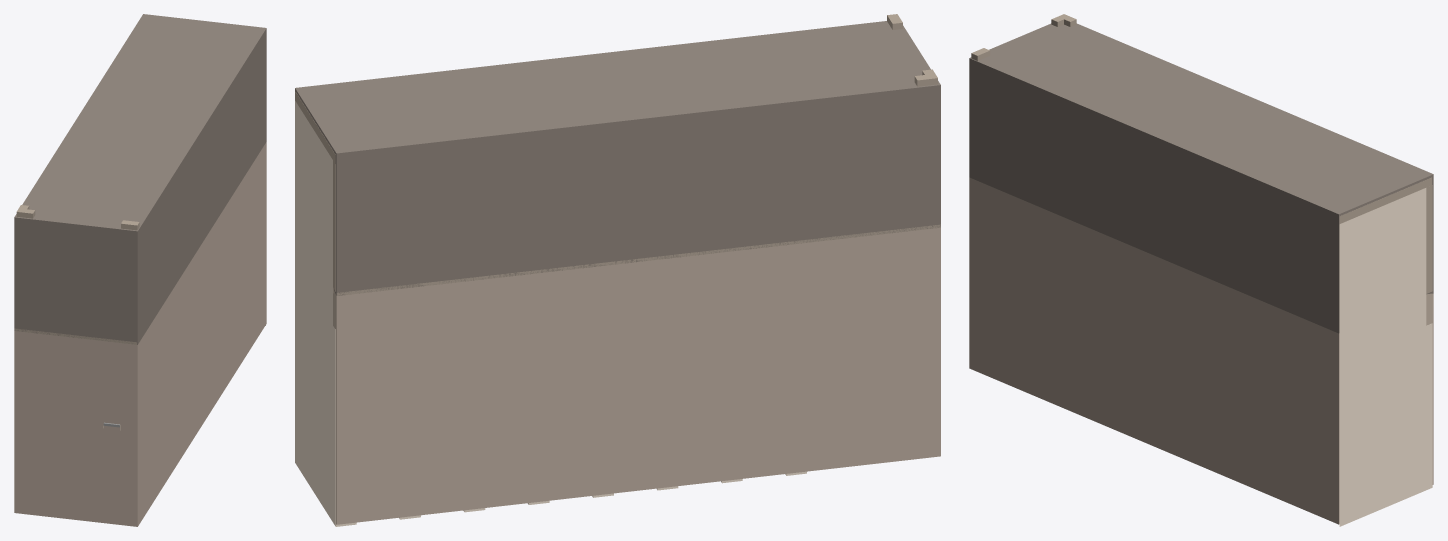
File: chinatown_corner1.dae
The picture shows the model from 3 angles, left to right: view 1: azimuth 30°, elevation 25°; view 2: azimuth 150°, elevation 25°; view 3: azimuth 270°, elevation 25°; orthographic projection. The views are drawn at different scales.
Visible parts, largest first — view 1: chinatown_corner1_a250, chinatown_corner1_a1000; view 2: chinatown_corner1_a250, chinatown_corner1_a1000; view 3: chinatown_corner1_a250, chinatown_corner1_a1000.
Part boxes in pixels (x1,y1,x2,y2): chinatown_corner1_a250: (14, 14, 266, 526); chinatown_corner1_a1000: (14, 205, 265, 430); chinatown_corner1_a250: (295, 21, 940, 524); chinatown_corner1_a1000: (295, 14, 940, 526); chinatown_corner1_a250: (969, 23, 1433, 524); chinatown_corner1_a1000: (971, 14, 1432, 526).
Bounding box in the file's own units: 31.14 × 31.14 × 23.52.
